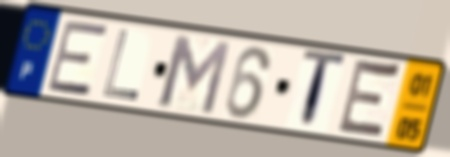6: (222, 43, 275, 121)
E: (333, 54, 405, 145), (44, 19, 111, 99)
L: (99, 27, 141, 104)
M: (155, 32, 234, 118)
T: (299, 47, 349, 135)
